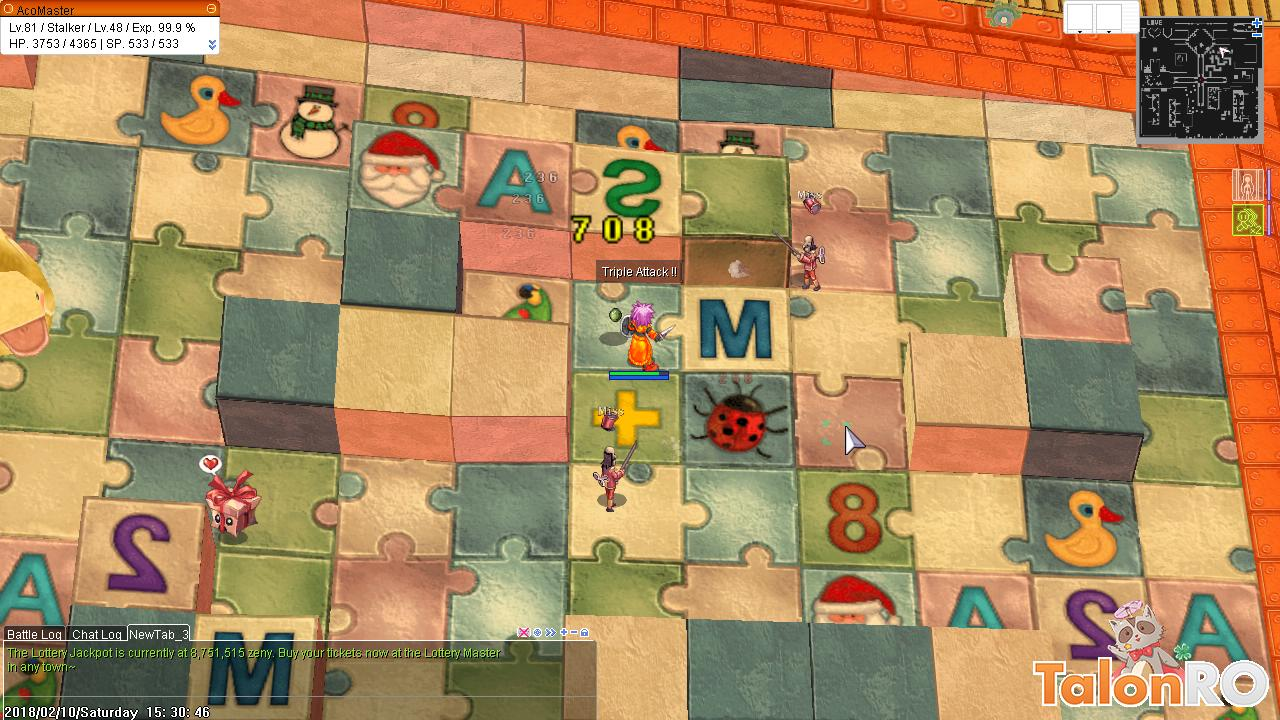loot: (604, 299, 621, 326)
mob: (771, 187, 831, 302), (589, 403, 646, 519)
myst_case: (198, 466, 271, 546)
